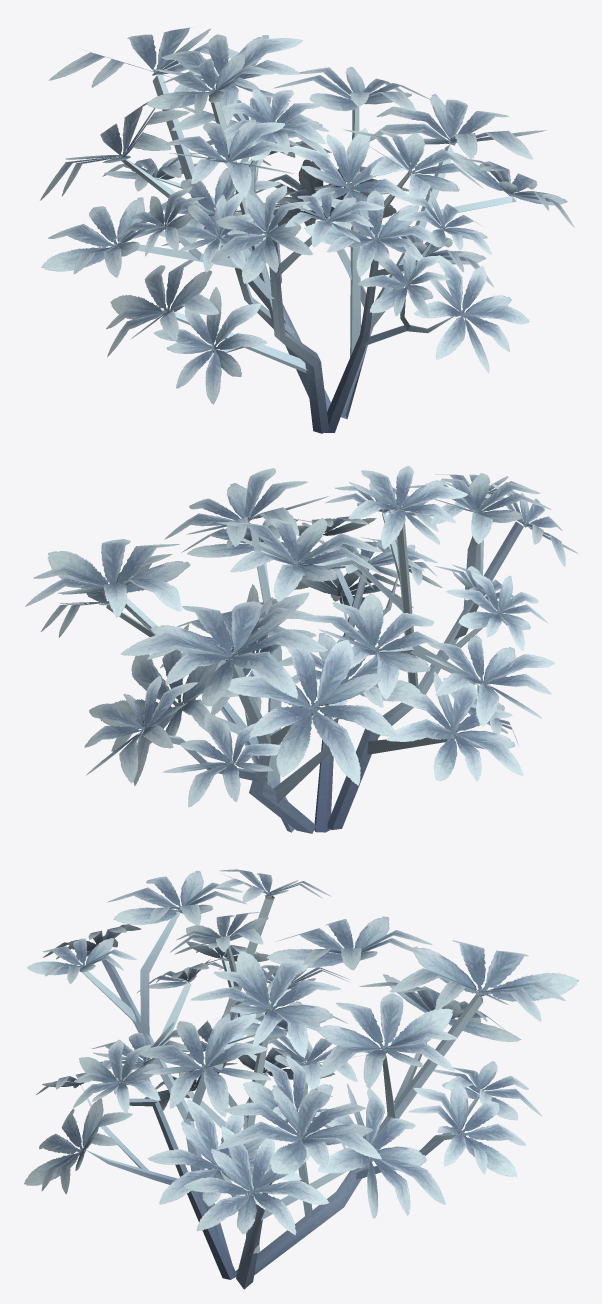
File: map_114_shu_11.fbx
3 renders of one model, top to bottom at view 1: azimuth 30°, elevation 25°; view 2: azimuth 150°, elevation 25°; view 3: azimuth 270°, elevation 25°, orthographic. The views are drawn at different scales.
Parts seen in each view (by area): view 1: map_114_shu_11; view 2: map_114_shu_11; view 3: map_114_shu_11.
Boxes of the visible parts, x1,y1,x2,y2 form: map_114_shu_11: [40, 27, 574, 433]; map_114_shu_11: [25, 466, 578, 833]; map_114_shu_11: [24, 869, 578, 1289].
Bounding box in the file's own units: 0.9602 × 0.6675 × 0.9547.
